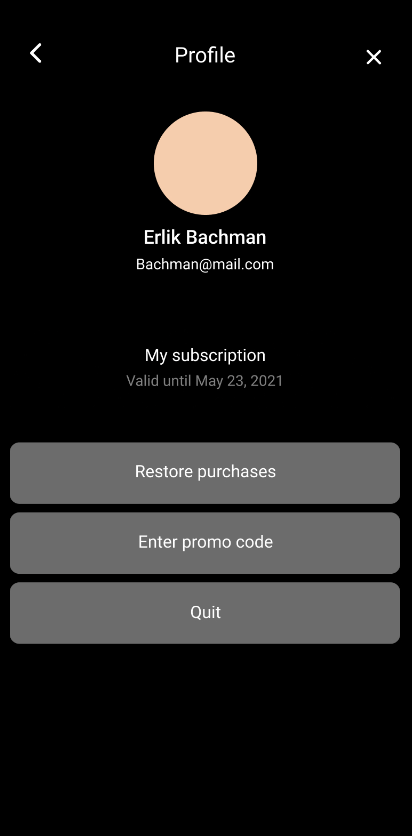AppBar: (1, 1, 412, 69)
Button: (8, 579, 404, 647), (8, 440, 402, 506), (7, 510, 402, 574)
IconButton: (364, 43, 383, 69), (27, 39, 45, 65)
